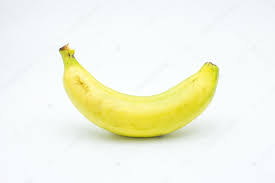banana: (57, 42, 221, 140)
